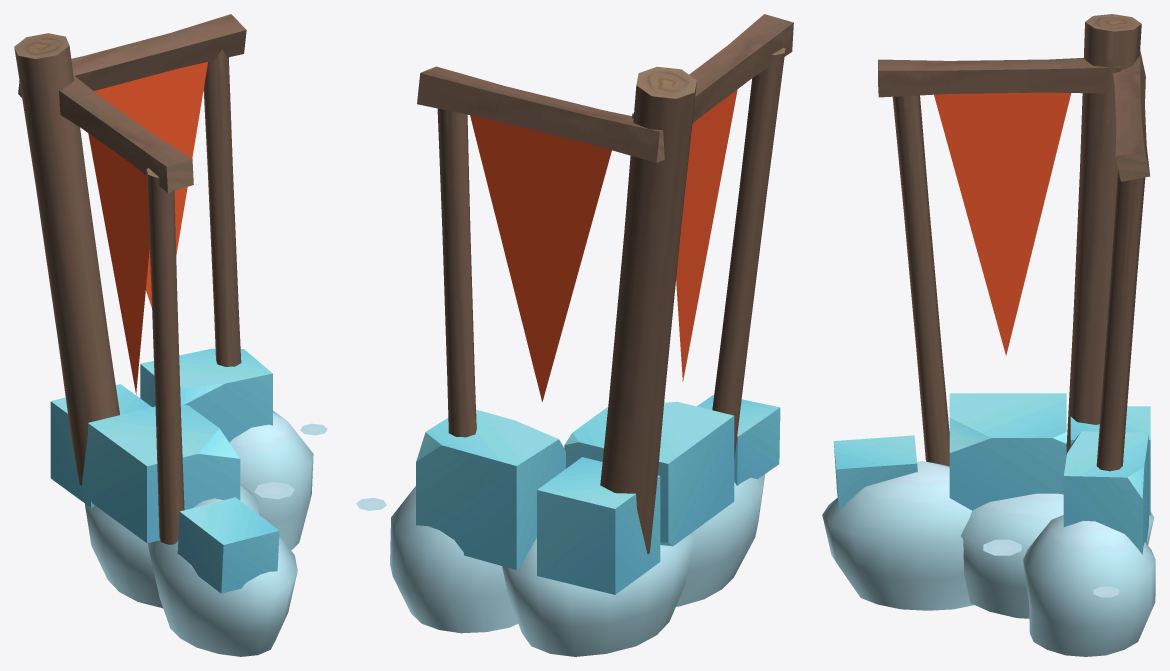
File: WallCorner-001_40_10_7055.fbx
3 views of the same model, side by side, from view 1: azimuth 30°, elevation 25°; view 2: azimuth 150°, elevation 25°; view 3: azimuth 270°, elevation 25° (orthographic). The views are drawn at different scales.
Visible parts, largest first — view 1: Corner, WoodFatty (1) (×2), Flag2.001 (1) (×2), WoodTop (2) (×2), WoodFatty; view 2: Corner, WoodFatty (1) (×2), Flag2.001 (1) (×2), WoodTop (2) (×2), WoodFatty; view 3: Corner, WoodFatty (1) (×2), Flag2.001 (1), WoodTop (2) (×2), WoodFatty.
Part boxes in pixels (left/top/right/bottom): Corner: left=50, top=348, right=327, bottom=656; WoodFatty (1) (×2): left=14, top=33, right=241, bottom=485; Flag2.001 (1) (×2): left=88, top=62, right=207, bottom=394; WoodTop (2) (×2): left=18, top=14, right=246, bottom=192; WoodFatty: left=146, top=168, right=184, bottom=544; Corner: left=356, top=394, right=780, bottom=656; WoodFatty (1) (×2): left=437, top=66, right=696, bottom=554; Flag2.001 (1) (×2): left=470, top=89, right=737, bottom=401; WoodTop (2) (×2): left=417, top=14, right=793, bottom=162; WoodFatty: left=712, top=47, right=785, bottom=458; Corner: left=822, top=393, right=1155, bottom=656; WoodFatty (1) (×2): left=1066, top=14, right=1145, bottom=471; Flag2.001 (1): left=934, top=92, right=1071, bottom=355; WoodTop (2) (×2): left=878, top=51, right=1150, bottom=181; WoodFatty: left=892, top=95, right=949, bottom=466.
Size of the model in its own units: 3.08 by 5.2 by 2.97.
